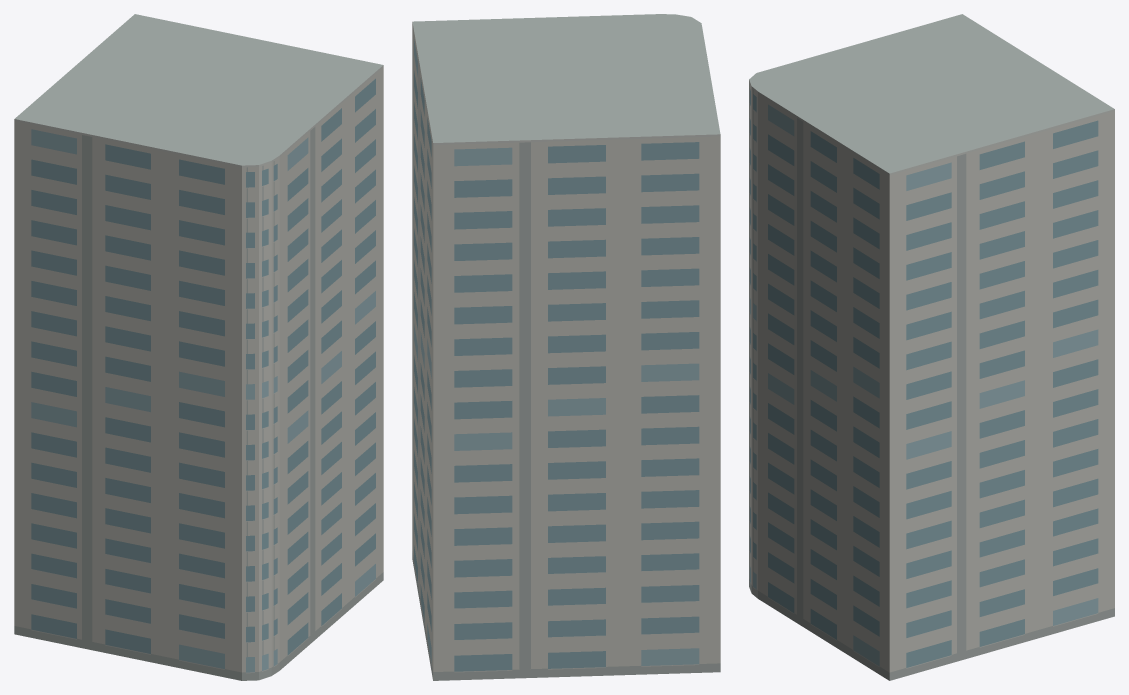
The model's file is residential-8ddecefd-c933-4366-b6de-c438347c89a7.glb.
The picture shows the model from 3 angles, left to right: view 1: azimuth 30°, elevation 25°; view 2: azimuth 150°, elevation 25°; view 3: azimuth 270°, elevation 25°; orthographic projection. The views are drawn at different scales.
Parts seen in each view (by area): view 1: residential-8ddecefd-c933-4366-b6de-c438347c89a7.tmp; view 2: residential-8ddecefd-c933-4366-b6de-c438347c89a7.tmp; view 3: residential-8ddecefd-c933-4366-b6de-c438347c89a7.tmp.
Boxes of the visible parts, left/top/right/bottom form: residential-8ddecefd-c933-4366-b6de-c438347c89a7.tmp: left=14, top=14, right=383, bottom=680; residential-8ddecefd-c933-4366-b6de-c438347c89a7.tmp: left=412, top=14, right=720, bottom=680; residential-8ddecefd-c933-4366-b6de-c438347c89a7.tmp: left=749, top=14, right=1114, bottom=680.
Size of the model in its own units: 41.16 by 61 by 39.86.
